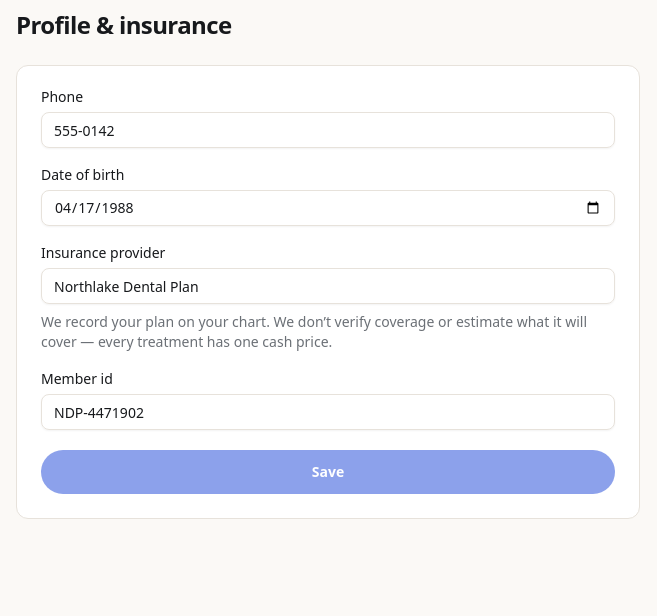
Test: the form › disables Save until a field actually changes
Expected: the button "Save" is disabled, left=41, top=450, right=615, bottom=494
Replace the text in the field labelled "Phone" with "555-0199" at (328, 130), box left=41, top=112, right=615, bottom=148
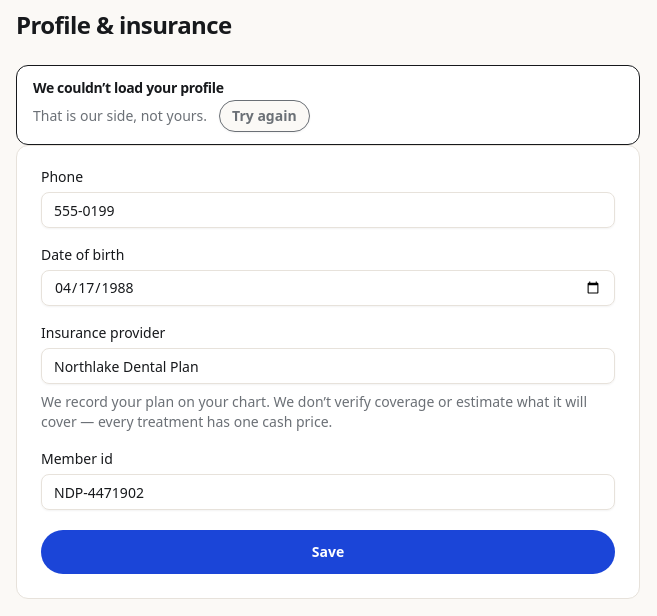
Result: the button "Save" is enabled at left=41, top=530, right=615, bottom=574
